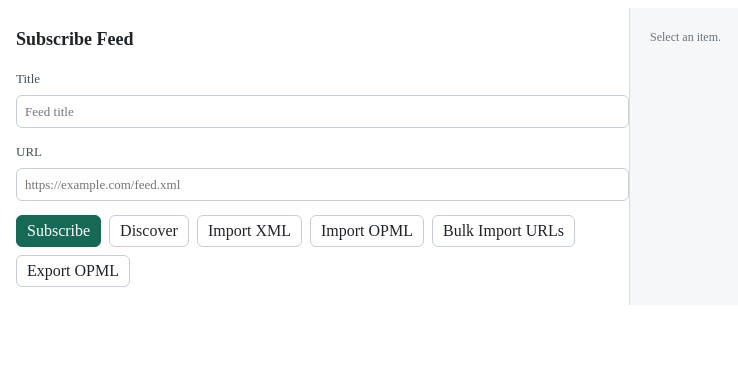
Test: RssApp › skips subscribing when the feed URL already exists
The image size is (738, 372).
Type "https://example.com/feed.xml#top" into the field named "Feed URL" at (322,184), box left=16, top=168, right=629, bottom=201
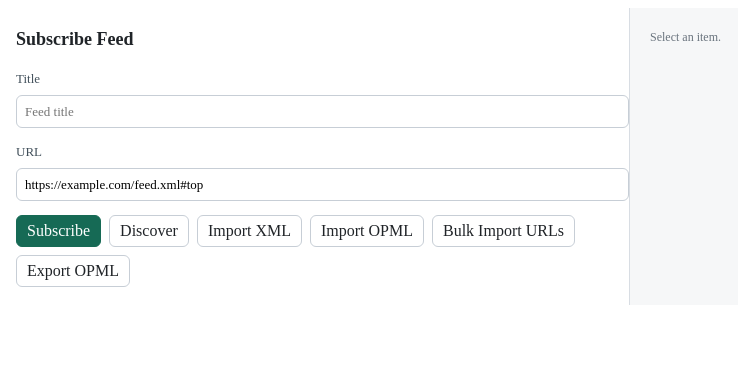
Click the button "Subscribe" at (59,231), box left=16, top=215, right=101, bottom=247
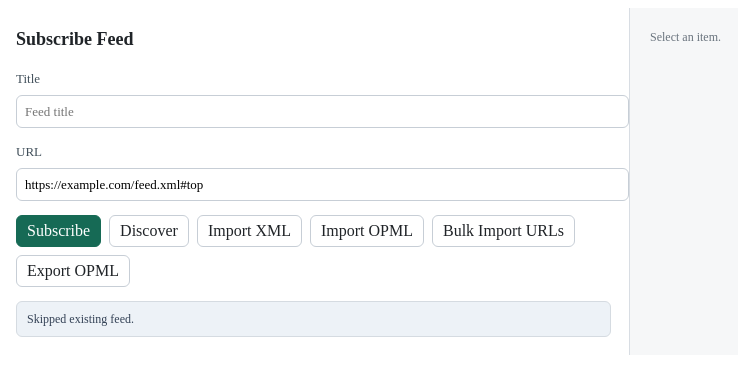
Check: the text "Skipped existing feed." is shown, box left=16, top=301, right=611, bottom=337
